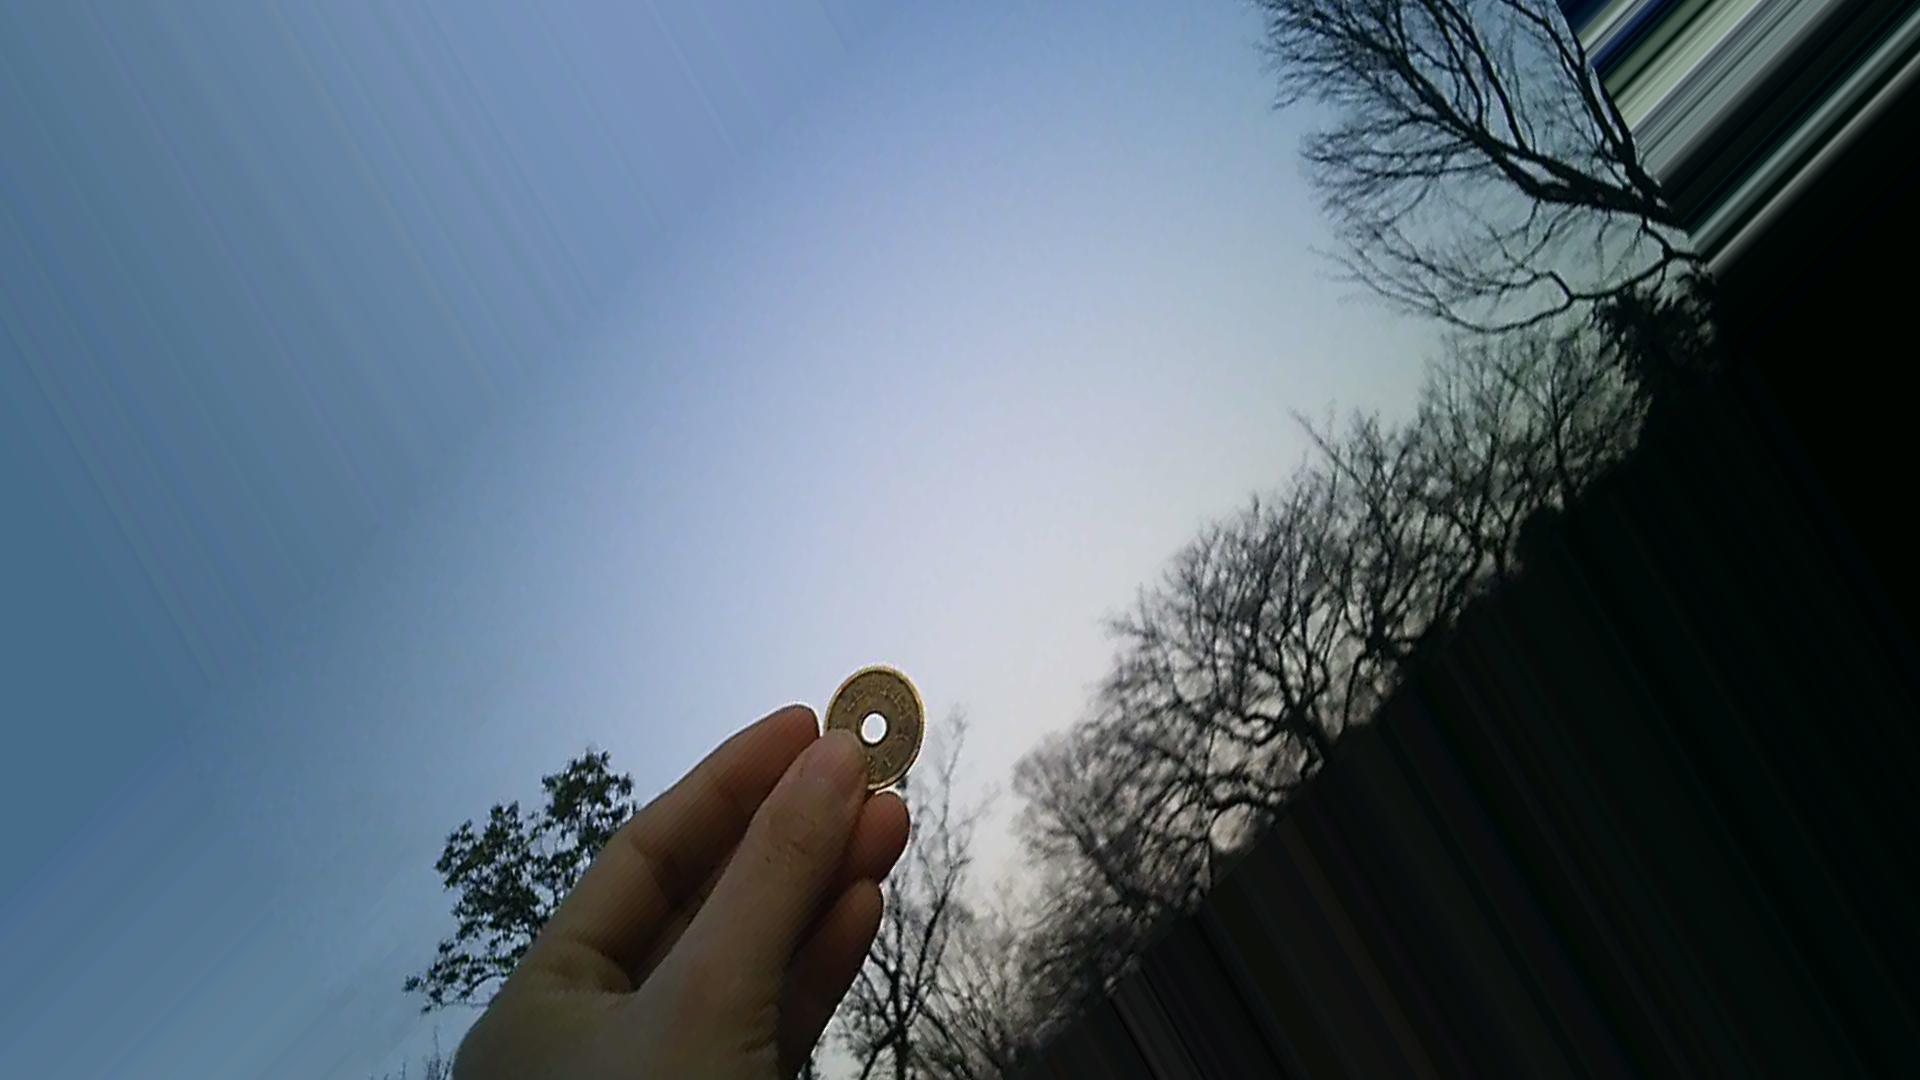5 Yen: (804, 653, 928, 785)
